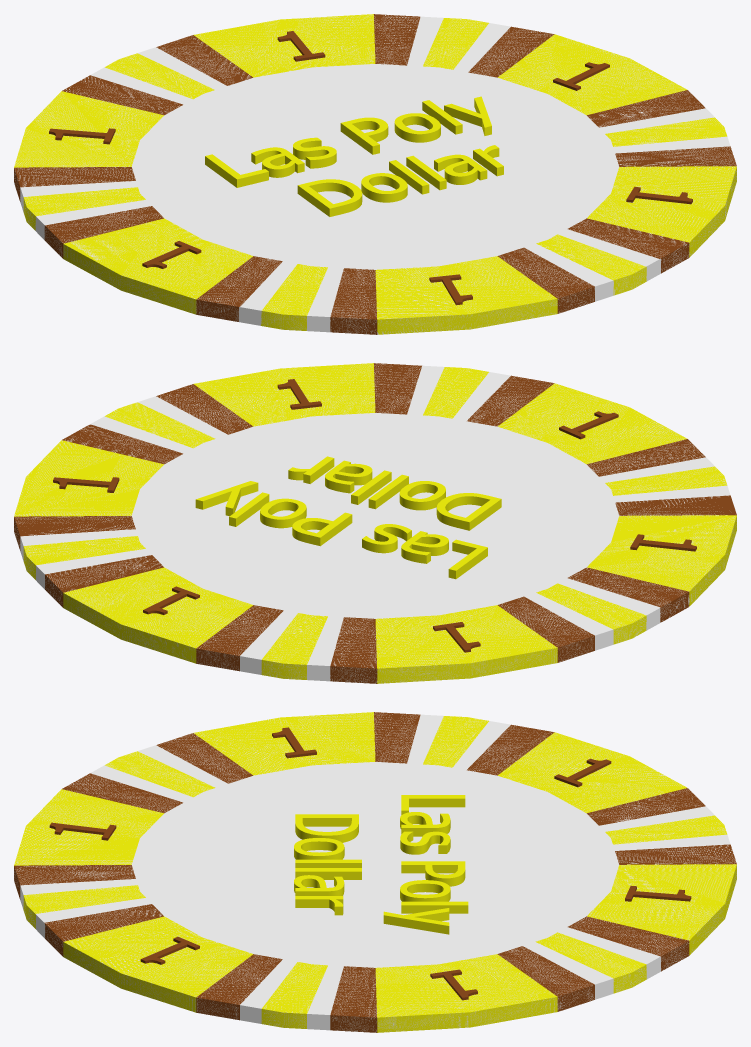
The model's file is oneLPD.obj.
3 views of the same model, one above another, from view 1: azimuth 30°, elevation 25°; view 2: azimuth 150°, elevation 25°; view 3: azimuth 270°, elevation 25° (orthographic).
Parts seen in each view (by area): view 1: Mesh49 Model, Mesh8 Las_Poly_Dollar_1_1 Model, Mesh4 Las_Poly_Dollar_1_1 Model, Mesh12 Las_Poly_Dollar_1_1 Model, Mesh2 Las_Poly_Dollar_1_1 Model, Mesh9 Las_Poly_Dollar_1_1 Model, Mesh5 Las_Poly_Dollar_1_1 Model, Mesh3 Las_Poly_Dollar_1_1 Model, Mesh1 Las_Poly_Dollar_1_1 Model, Mesh7 Las_Poly_Dollar_1_1 Model, Mesh11 Las_Poly_Dollar_1_1 Model, Mesh13 Las_Poly_Dollar_1_1 Model (+6 smaller); view 2: Mesh49 Model, Mesh8 Las_Poly_Dollar_1_1 Model, Mesh4 Las_Poly_Dollar_1_1 Model, Mesh2 Las_Poly_Dollar_1_1 Model, Mesh12 Las_Poly_Dollar_1_1 Model, Mesh9 Las_Poly_Dollar_1_1 Model, Mesh5 Las_Poly_Dollar_1_1 Model, Mesh7 Las_Poly_Dollar_1_1 Model, Mesh3 Las_Poly_Dollar_1_1 Model, Mesh1 Las_Poly_Dollar_1_1 Model, Mesh13 Las_Poly_Dollar_1_1 Model, Mesh11 Las_Poly_Dollar_1_1 Model (+6 smaller); view 3: Mesh49 Model, Mesh8 Las_Poly_Dollar_1_1 Model, Mesh4 Las_Poly_Dollar_1_1 Model, Mesh7 Las_Poly_Dollar_1_1 Model, Mesh5 Las_Poly_Dollar_1_1 Model, Mesh9 Las_Poly_Dollar_1_1 Model, Mesh2 Las_Poly_Dollar_1_1 Model, Mesh3 Las_Poly_Dollar_1_1 Model, Mesh12 Las_Poly_Dollar_1_1 Model, Mesh1 Las_Poly_Dollar_1_1 Model, Mesh6 Las_Poly_Dollar_1_1 Model, Mesh11 Las_Poly_Dollar_1_1 Model (+6 smaller).
Boxes of the visible parts, x1=… form: Mesh49 Model: x1=14, y1=14, x2=736, y2=334; Mesh8 Las_Poly_Dollar_1_1 Model: x1=297, y1=179, x2=362, y2=216; Mesh4 Las_Poly_Dollar_1_1 Model: x1=340, y1=117, x2=388, y2=154; Mesh12 Las_Poly_Dollar_1_1 Model: x1=434, y1=154, x2=487, y2=184; Mesh2 Las_Poly_Dollar_1_1 Model: x1=251, y1=147, x2=304, y2=177; Mesh9 Las_Poly_Dollar_1_1 Model: x1=361, y1=173, x2=407, y2=202; Mesh5 Las_Poly_Dollar_1_1 Model: x1=394, y1=113, x2=440, y2=142; Mesh3 Las_Poly_Dollar_1_1 Model: x1=293, y1=137, x2=336, y2=168; Mesh1 Las_Poly_Dollar_1_1 Model: x1=205, y1=154, x2=268, y2=187; Mesh7 Las_Poly_Dollar_1_1 Model: x1=444, y1=96, x2=491, y2=135; Mesh11 Las_Poly_Dollar_1_1 Model: x1=406, y1=155, x2=446, y2=190; Mesh13 Las_Poly_Dollar_1_1 Model: x1=473, y1=145, x2=503, y2=176; Mesh49 Model: x1=14, y1=363, x2=736, y2=683; Mesh8 Las_Poly_Dollar_1_1 Model: x1=436, y1=493, x2=501, y2=530; Mesh4 Las_Poly_Dollar_1_1 Model: x1=292, y1=512, x2=352, y2=546; Mesh2 Las_Poly_Dollar_1_1 Model: x1=401, y1=531, x2=448, y2=563; Mesh12 Las_Poly_Dollar_1_1 Model: x1=325, y1=460, x2=372, y2=493; Mesh9 Las_Poly_Dollar_1_1 Model: x1=399, y1=481, x2=445, y2=510; Mesh5 Las_Poly_Dollar_1_1 Model: x1=260, y1=498, x2=306, y2=528; Mesh7 Las_Poly_Dollar_1_1 Model: x1=195, y1=481, x2=258, y2=516; Mesh3 Las_Poly_Dollar_1_1 Model: x1=362, y1=524, x2=411, y2=553; Mesh1 Las_Poly_Dollar_1_1 Model: x1=448, y1=539, x2=487, y2=579; Mesh13 Las_Poly_Dollar_1_1 Model: x1=288, y1=456, x2=334, y2=483; Mesh11 Las_Poly_Dollar_1_1 Model: x1=351, y1=470, x2=391, y2=504; Mesh49 Model: x1=14, y1=712, x2=736, y2=1032; Mesh8 Las_Poly_Dollar_1_1 Model: x1=295, y1=814, x2=358, y2=842; Mesh4 Las_Poly_Dollar_1_1 Model: x1=401, y1=861, x2=465, y2=886; Mesh7 Las_Poly_Dollar_1_1 Model: x1=383, y1=908, x2=449, y2=934; Mesh5 Las_Poly_Dollar_1_1 Model: x1=400, y1=880, x2=450, y2=901; Mesh9 Las_Poly_Dollar_1_1 Model: x1=294, y1=838, x2=344, y2=859; Mesh2 Las_Poly_Dollar_1_1 Model: x1=400, y1=812, x2=450, y2=836; Mesh3 Las_Poly_Dollar_1_1 Model: x1=400, y1=831, x2=450, y2=854; Mesh12 Las_Poly_Dollar_1_1 Model: x1=294, y1=875, x2=344, y2=895; Mesh1 Las_Poly_Dollar_1_1 Model: x1=401, y1=795, x2=465, y2=814; Mesh6 Las_Poly_Dollar_1_1 Model: x1=401, y1=901, x2=468, y2=913; Mesh11 Las_Poly_Dollar_1_1 Model: x1=295, y1=868, x2=361, y2=879.
Size of the model in its own units: 21.5 by 0.78 by 21.5.
